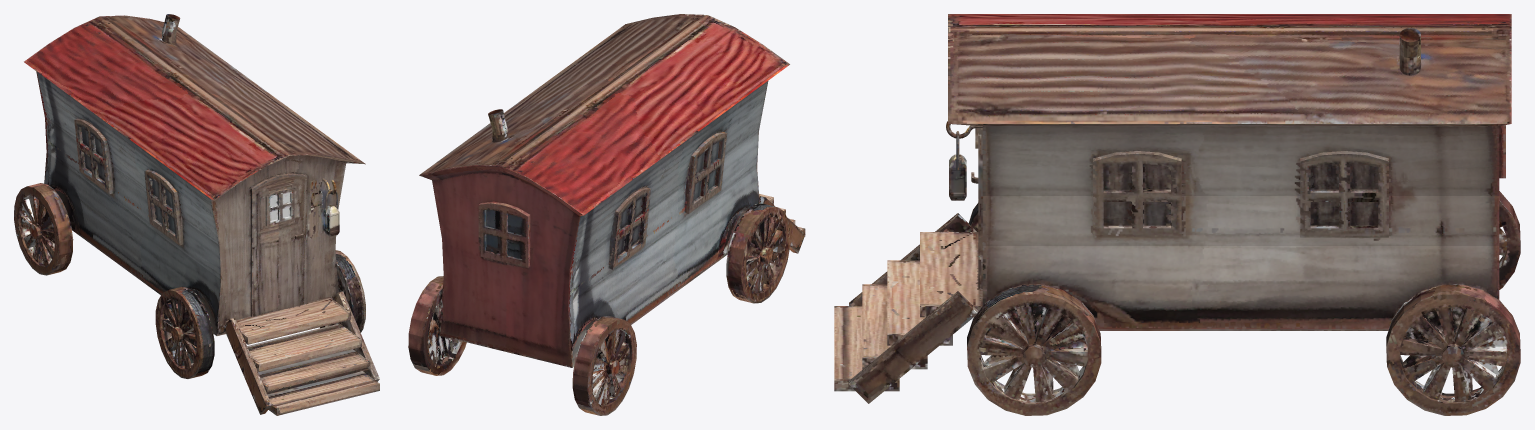
Rendered from textured_text2tex.glb.
3 views of the same model, side by side, from view 1: azimuth 30°, elevation 25°; view 2: azimuth 150°, elevation 25°; view 3: azimuth 270°, elevation 25° (orthographic). The views are drawn at different scales.
Parts seen in each view (by area): view 1: Node; view 2: Node; view 3: Node.
Boxes of the visible parts, bbox=[...] form: Node: bbox=[14, 14, 379, 415]; Node: bbox=[408, 14, 805, 415]; Node: bbox=[834, 14, 1520, 415].
Bounding box in the file's own units: 0.4265 × 0.5781 × 1.
Materials: 1 (1 with a texture image).
